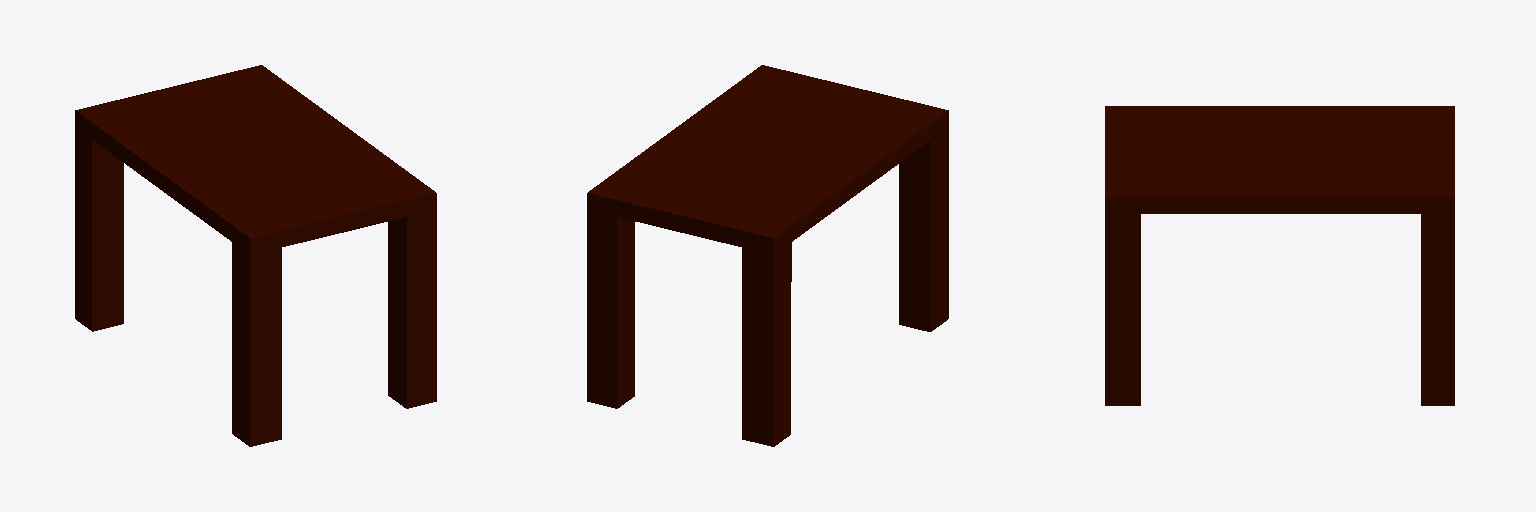
Rendered from tafel.obj.
3 views of the same model, side by side, from view 1: azimuth 30°, elevation 25°; view 2: azimuth 150°, elevation 25°; view 3: azimuth 270°, elevation 25° (orthographic).
Parts seen in each view (by area): view 1: Cube.001; view 2: Cube.001; view 3: Cube.001.
Boxes of the visible parts, x1=… form: Cube.001: x1=75, y1=65, x2=436, y2=446; Cube.001: x1=587, y1=65, x2=948, y2=446; Cube.001: x1=1105, y1=106, x2=1454, y2=405.
Bounding box in the file's own units: 2.57 × 2.75 × 4.17.